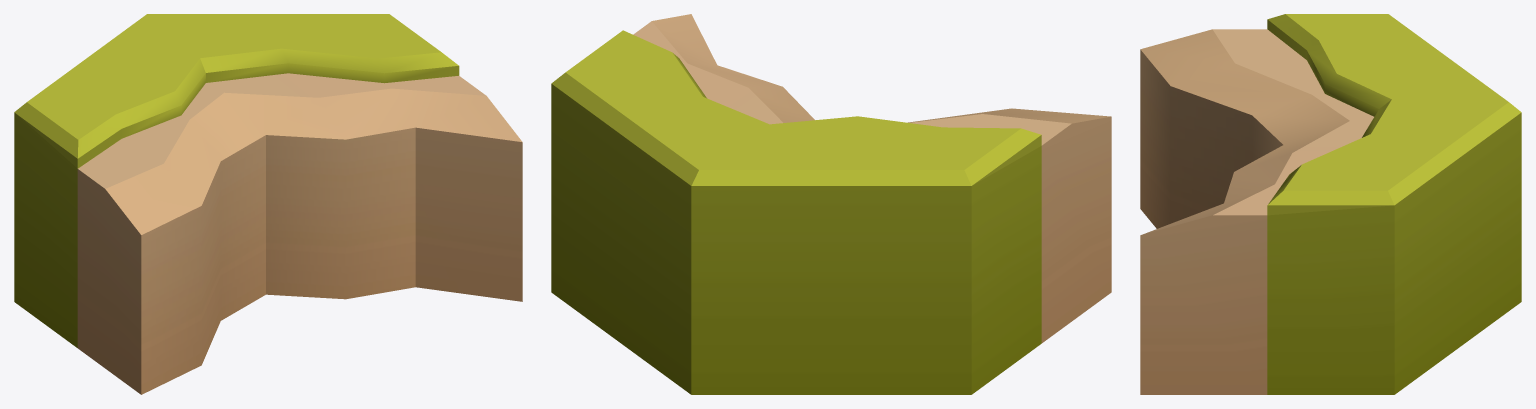
File: kaykit-medieval-hexagon-pack-hex-coast-b-waterless.glb
3 renders of one model, left to right at view 1: azimuth 30°, elevation 25°; view 2: azimuth 150°, elevation 25°; view 3: azimuth 270°, elevation 25°, orthographic. The views are drawn at different scales.
Parts seen in each view (by area): view 1: hex_coast_B_waterless; view 2: hex_coast_B_waterless; view 3: hex_coast_B_waterless.
Boxes of the visible parts, x1,y1,x2,y2 form: hex_coast_B_waterless: (14, 14, 522, 394); hex_coast_B_waterless: (551, 14, 1111, 394); hex_coast_B_waterless: (1140, 14, 1521, 394).
Size of the model in its own units: 2 by 1 by 1.73.
1 material, 1 textured.
